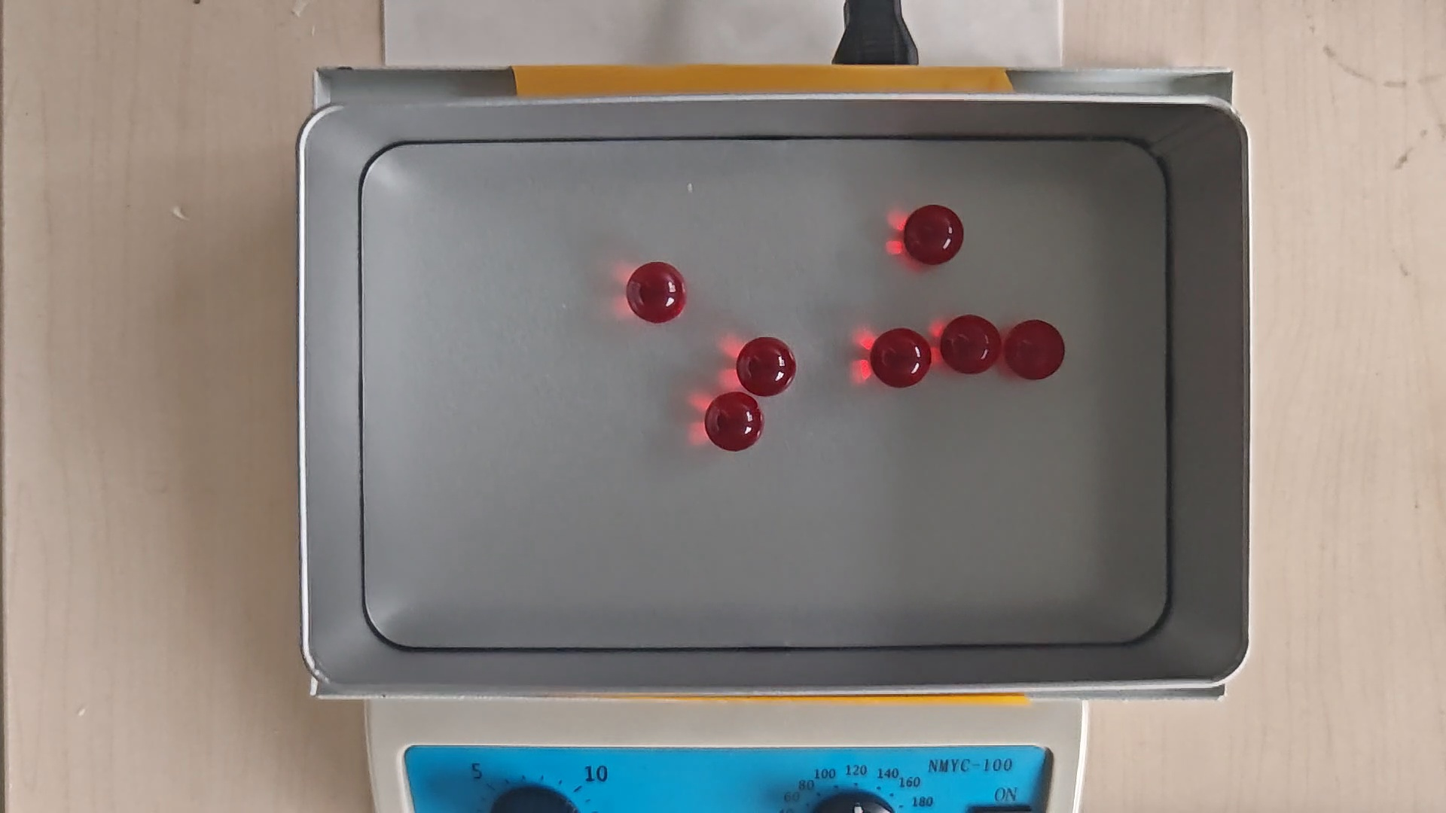ball: (625, 261, 688, 324), (904, 203, 966, 266), (939, 315, 1003, 376), (1005, 318, 1066, 382), (736, 337, 798, 397), (871, 328, 932, 388), (704, 391, 763, 451)
container: (358, 139, 1172, 648)
